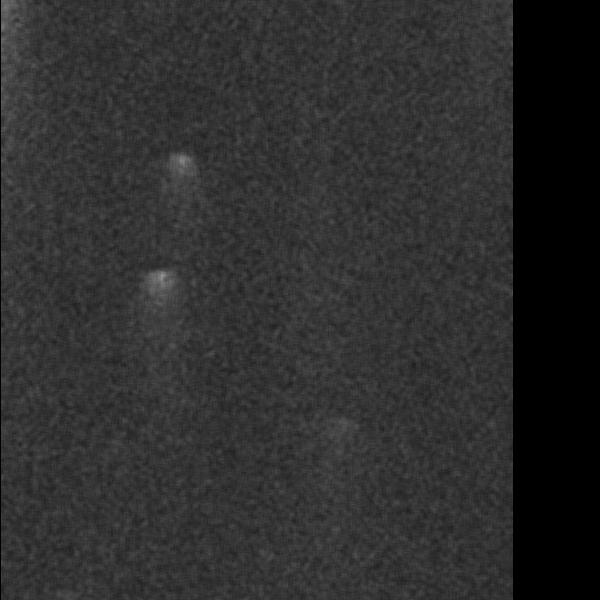spark: (147, 267, 175, 332), (165, 147, 197, 195), (331, 414, 356, 454)
